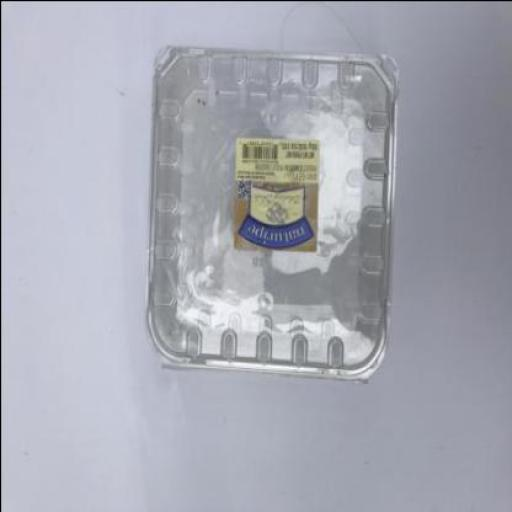plastic: (144, 44, 398, 384)
